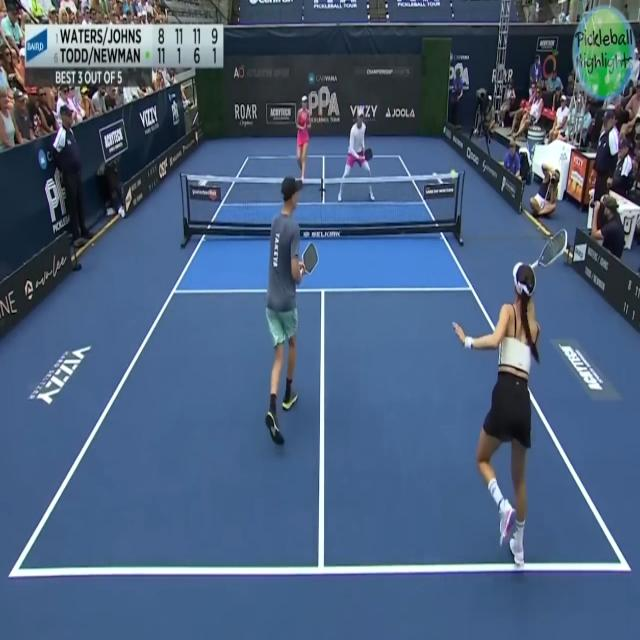Pickleball: (450, 167, 458, 180)
